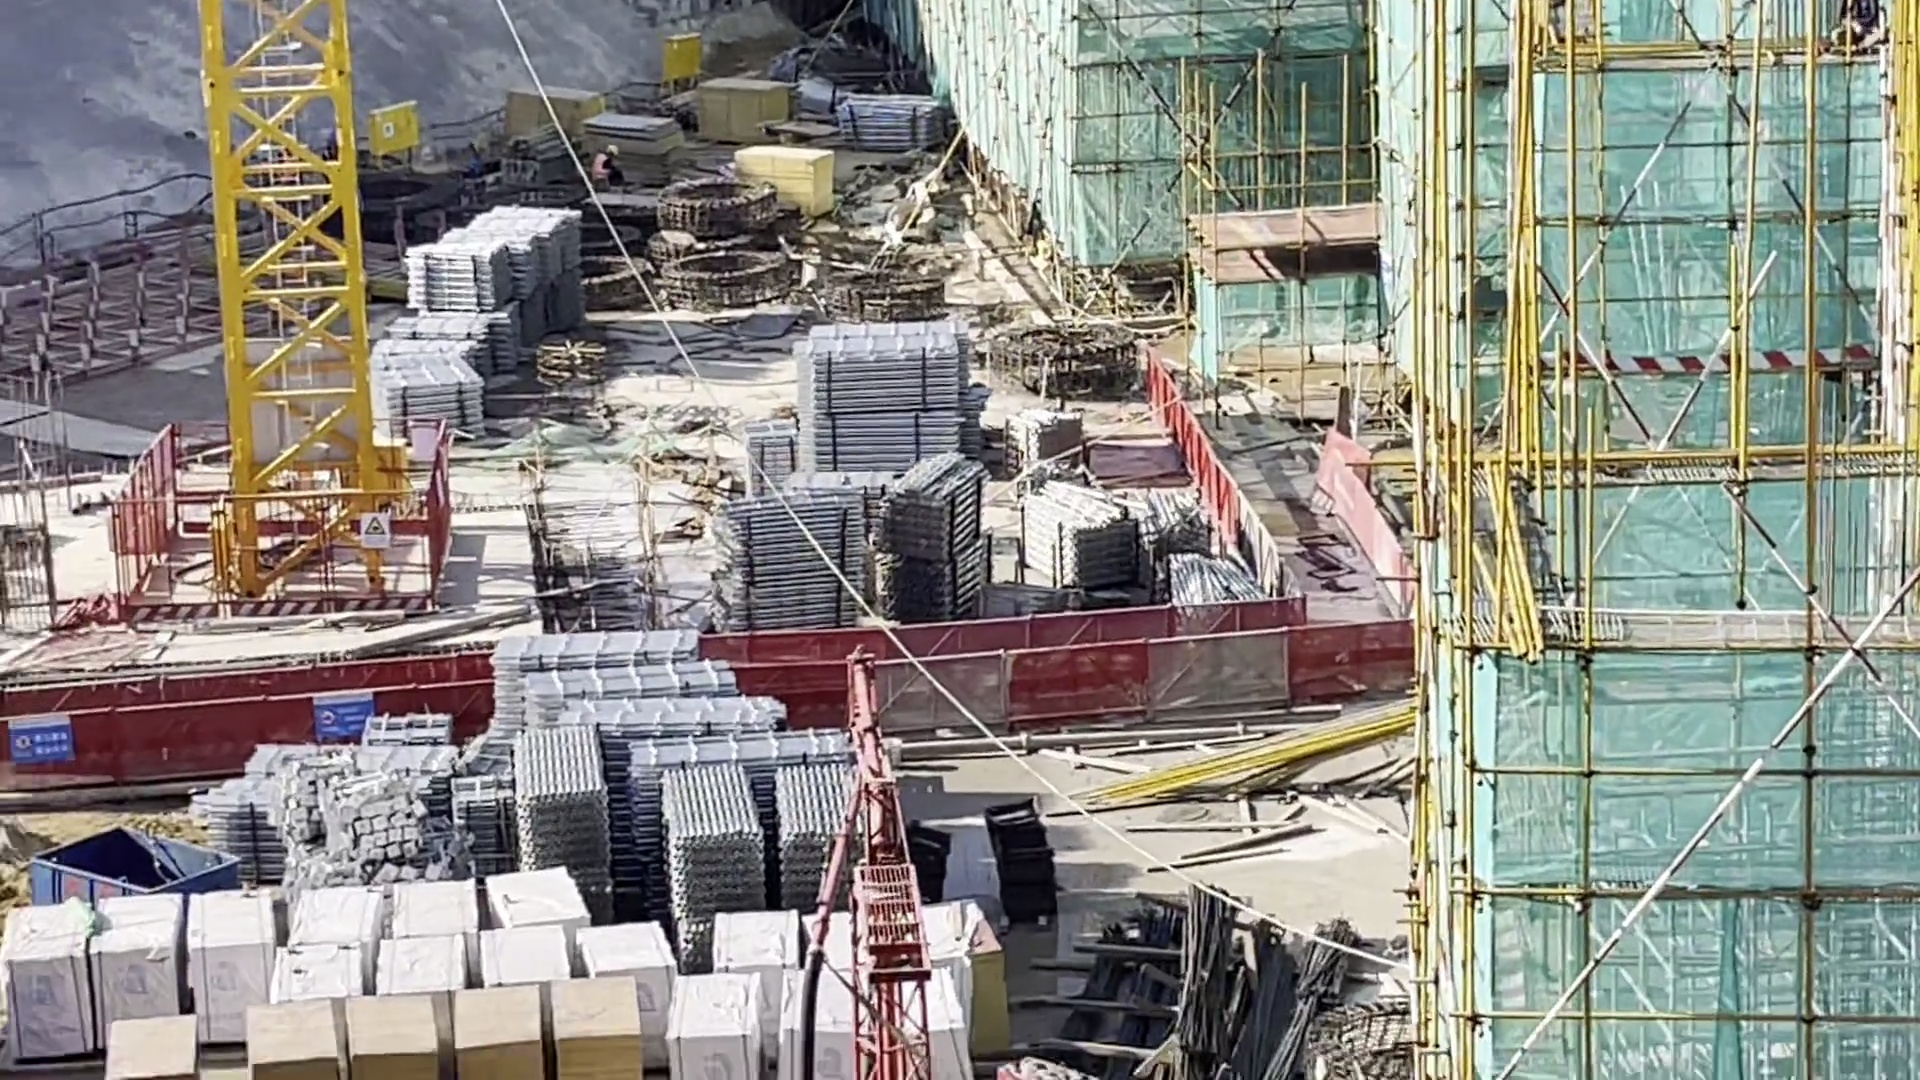board: (555, 981, 636, 1080), (359, 1001, 445, 1080), (740, 148, 832, 213), (460, 990, 535, 1071), (103, 1017, 196, 1080), (252, 1015, 342, 1080), (493, 87, 571, 145), (695, 81, 775, 133)
ebox: (662, 32, 706, 88), (369, 104, 413, 145)
fence: (774, 624, 1400, 746), (1157, 363, 1297, 600), (31, 683, 473, 755), (29, 651, 483, 709), (750, 617, 1298, 665)
helmet: (605, 145, 622, 157)
hopper: (41, 823, 213, 903)
person: (1828, 1, 1888, 54), (594, 145, 624, 191)
rebar: (1161, 891, 1237, 1080), (1271, 919, 1350, 1072), (1122, 913, 1170, 1063), (1049, 932, 1118, 1033)
scaffold: (517, 633, 733, 687), (683, 776, 767, 883), (777, 779, 867, 880), (619, 733, 821, 776), (799, 347, 947, 403), (535, 733, 607, 837), (1037, 499, 1127, 577), (387, 380, 497, 445), (901, 464, 987, 544), (824, 405, 949, 457), (729, 505, 856, 556), (740, 567, 849, 625), (529, 671, 728, 703), (411, 244, 512, 305), (843, 100, 951, 155), (200, 800, 283, 869), (589, 703, 761, 735), (907, 544, 988, 612), (1012, 417, 1077, 491), (396, 312, 493, 344), (745, 428, 795, 487), (445, 787, 495, 843), (387, 347, 459, 377), (457, 225, 539, 244)
slogan: (10, 722, 74, 764), (316, 693, 371, 739), (357, 510, 391, 553)
vest: (1841, 1, 1878, 34), (593, 155, 612, 180)
